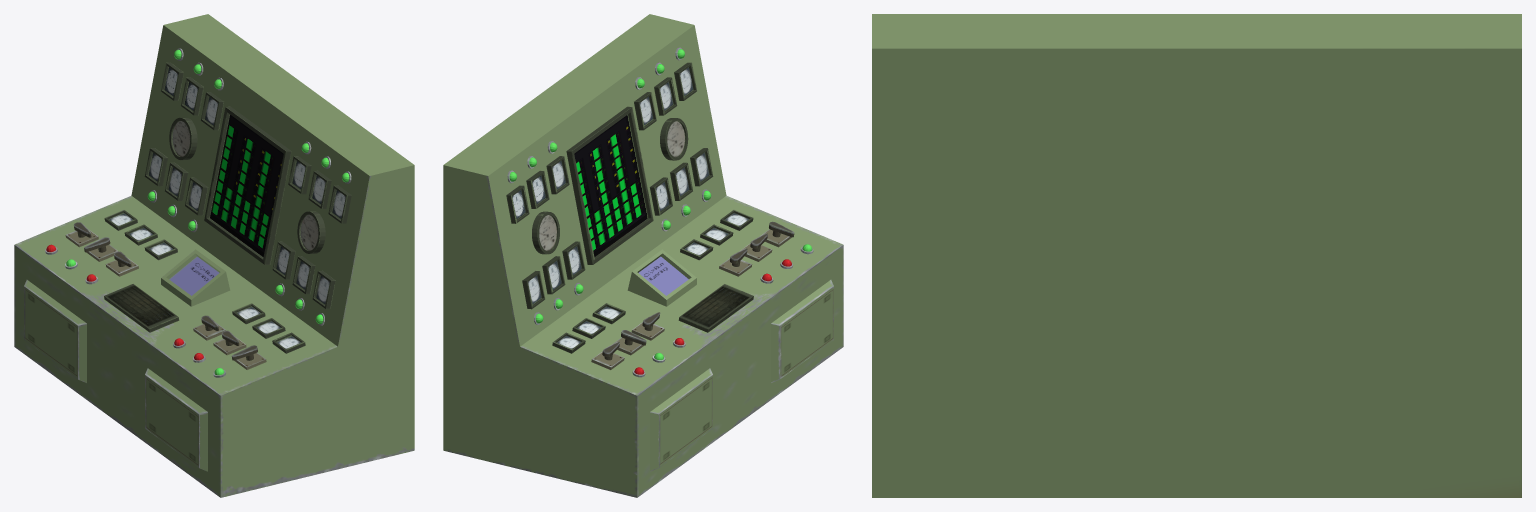
The model's file is 控制台.glb.
3 views of the same model, side by side, from view 1: azimuth 30°, elevation 25°; view 2: azimuth 150°, elevation 25°; view 3: azimuth 270°, elevation 25° (orthographic). The views are drawn at different scales.
Visible parts, largest first — view 1: Cube; view 2: Cube; view 3: Cube.
Boxes of the visible parts, x1,y1,x2,y2 form: Cube: (14,14,414,497); Cube: (443,14,843,497); Cube: (872,14,1521,497).
Size of the model in its own units: 0.8738 by 1.19 by 1.56.
Materials: 1 (1 with a texture image).
